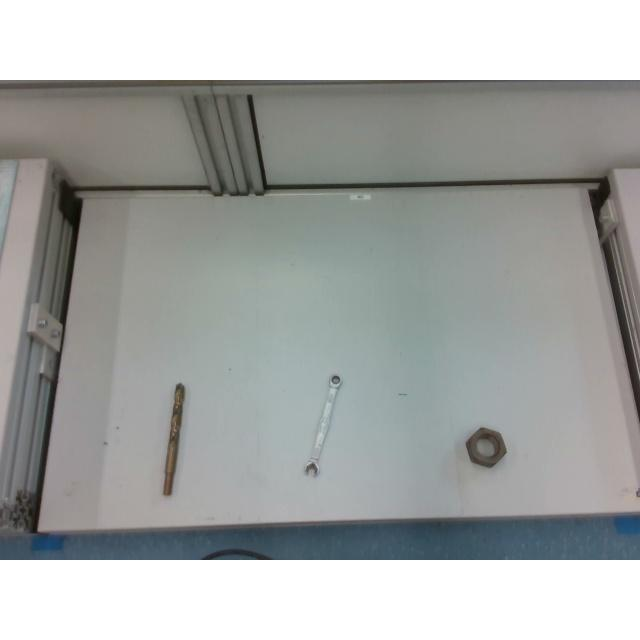Drill: (163, 383, 185, 495)
M30: (466, 427, 506, 467)
Wrench: (304, 374, 341, 478)
